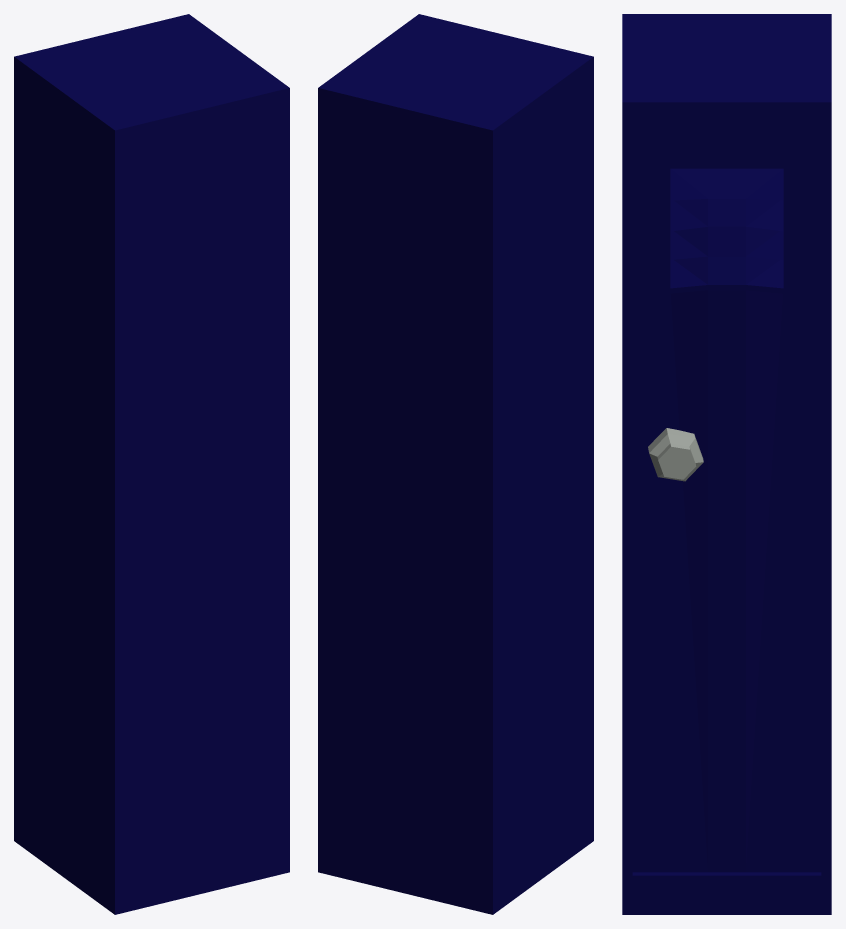
Rendered from Armario.dae.
The picture shows the model from 3 angles, left to right: view 1: azimuth 30°, elevation 25°; view 2: azimuth 150°, elevation 25°; view 3: azimuth 270°, elevation 25°; orthographic projection. The views are drawn at different scales.
Parts seen in each view (by area): view 1: Cube_002; view 2: Cube_002; view 3: Cube_002, Cube.
Boxes of the visible parts, box(x1,y1,x2,y2) form: Cube_002: box(14, 14, 289, 914); Cube_002: box(318, 14, 593, 914); Cube_002: box(622, 14, 831, 914); Cube: box(648, 428, 703, 481).
Bounding box in the file's own units: 2.19 × 2 × 8.57.
